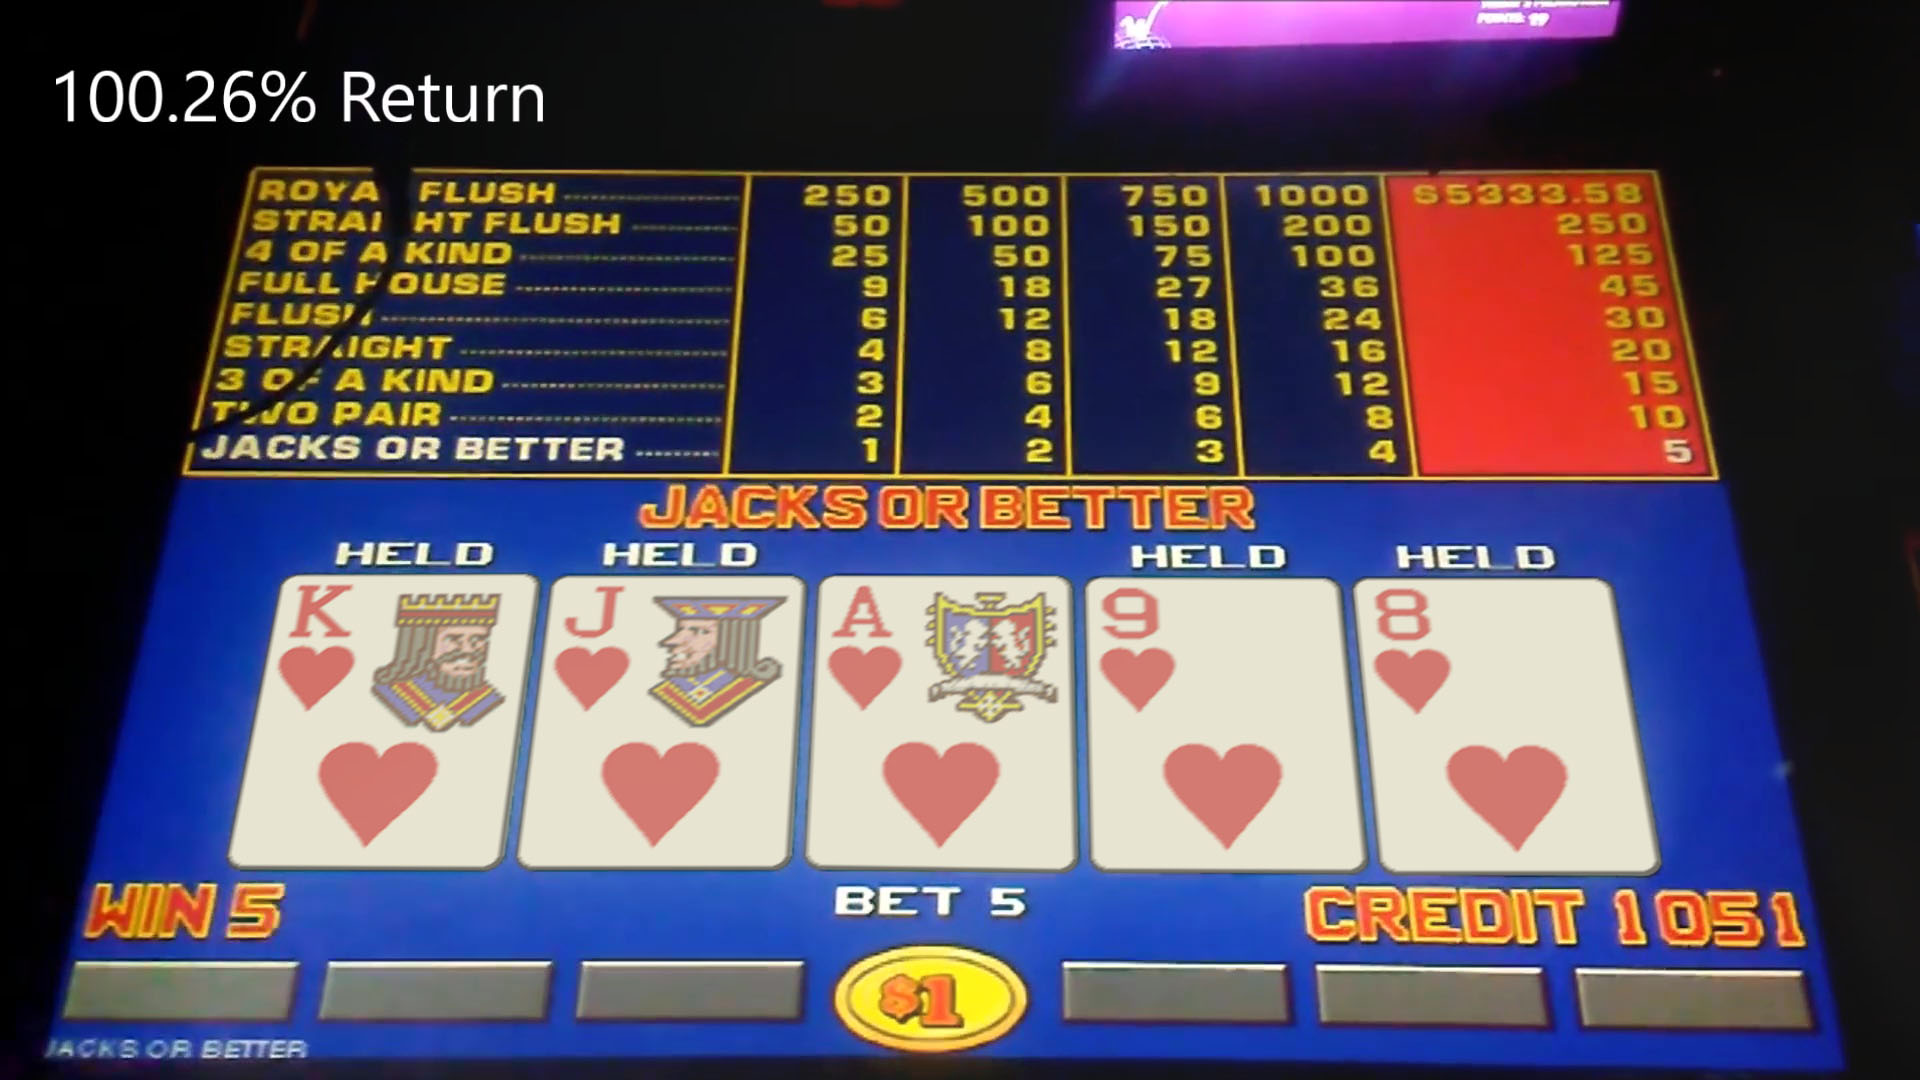H8: (1370, 582, 1611, 724)
H9: (1091, 580, 1338, 725)
HA: (822, 576, 1068, 731)
HJ: (553, 578, 793, 735)
HK: (276, 576, 518, 727)
